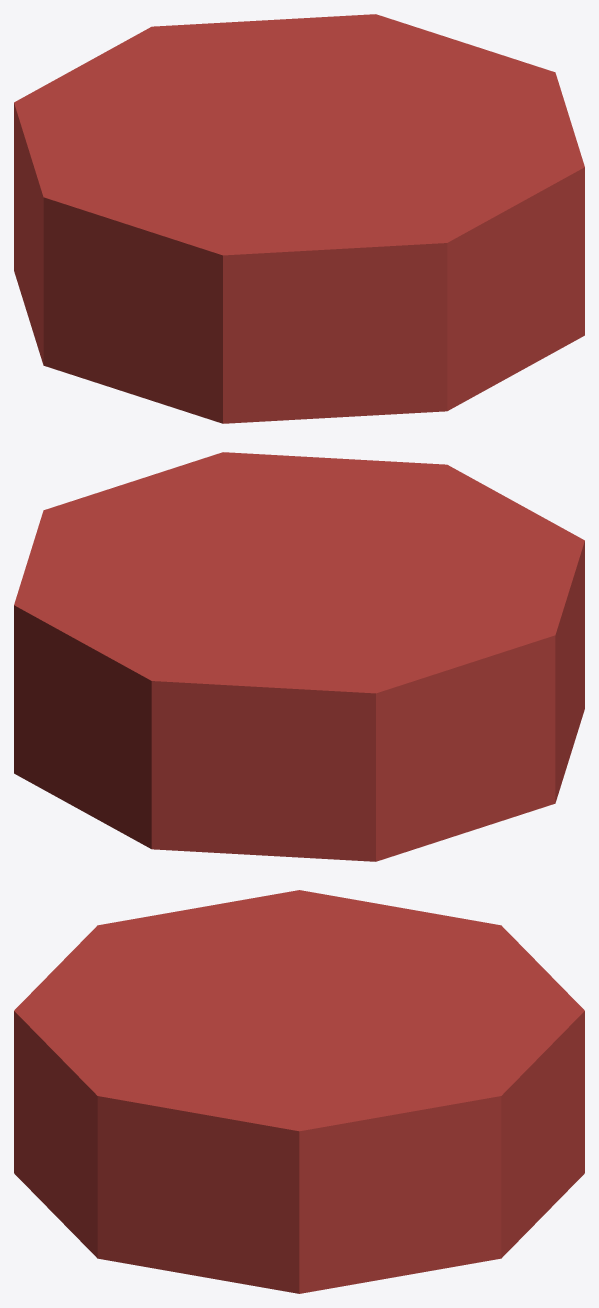
Rendered from rotary_lod2.glb.
3 renders of one model, top to bottom at view 1: azimuth 30°, elevation 25°; view 2: azimuth 150°, elevation 25°; view 3: azimuth 270°, elevation 25°, orthographic. The views are drawn at different scales.
Parts seen in each view (by area): view 1: rotary_lod2; view 2: rotary_lod2; view 3: rotary_lod2.
Part boxes in pixels (x1,y1,x2,y2): rotary_lod2: (14,14,584,423); rotary_lod2: (14,452,584,861); rotary_lod2: (14,890,584,1293).
Bounding box in the file's own units: 0.07 × 0.022 × 0.07.
